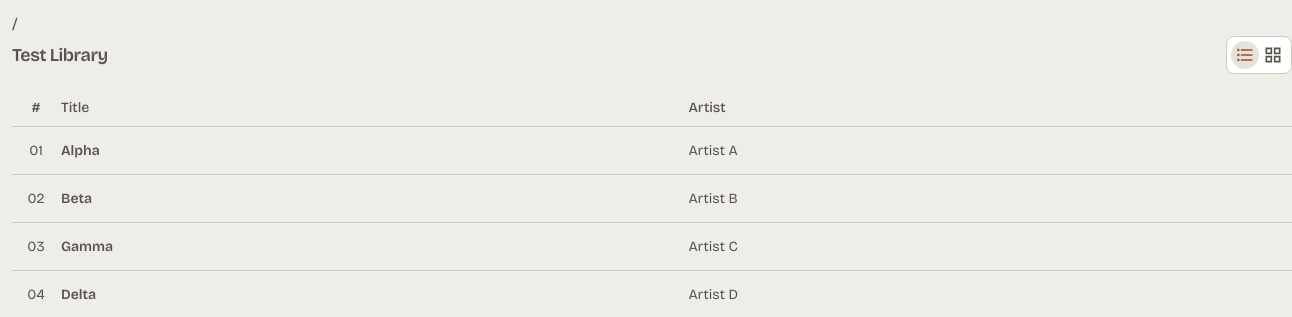
Test case: LibraryView view-mode persistence (audit F28) › stays ephemeral when no page key is passed
Click the button named "grid view": (1273, 55) top-left (1259, 41), bottom-right (1287, 69)
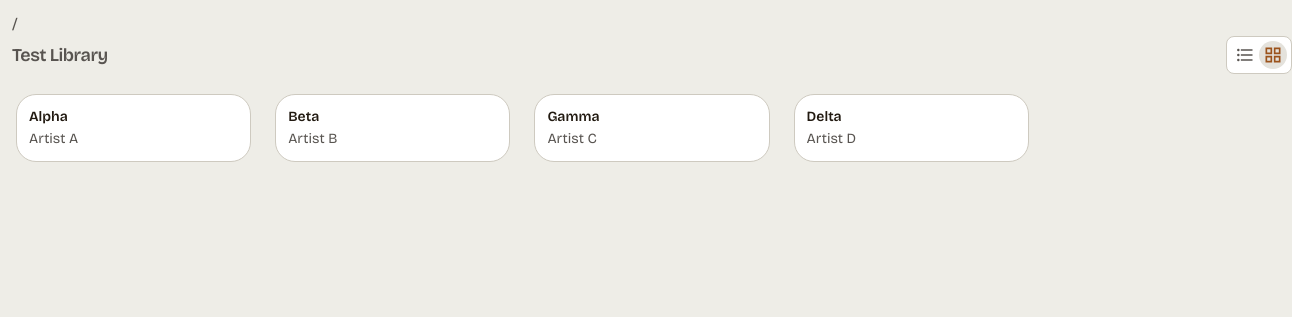
Check: the element with class "library-view-grid" is shown, box top-left (16, 94), bottom-right (1029, 162)
